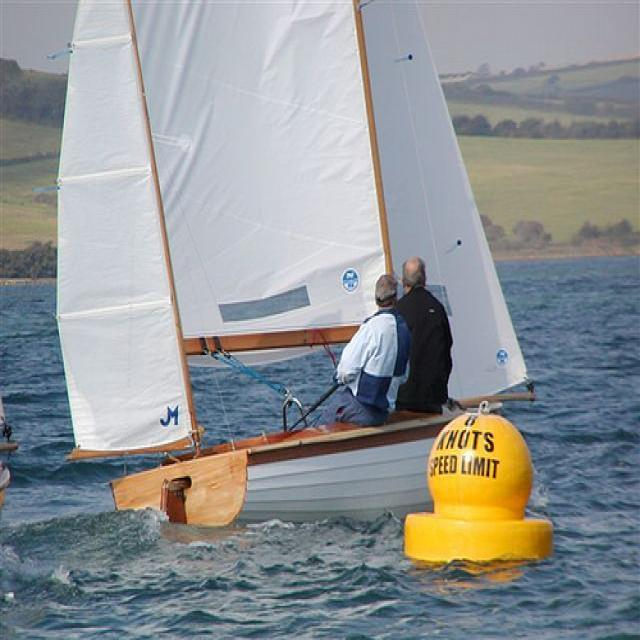Ship: (45, 1, 546, 533)
